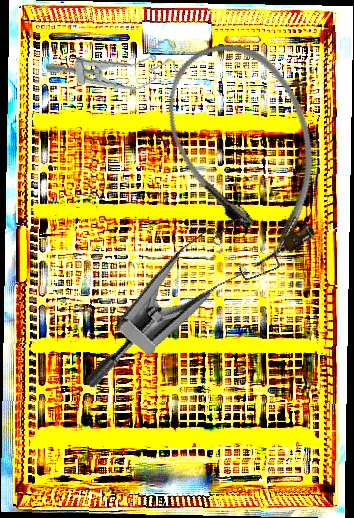Cannula: (145, 23, 350, 279)
Speculum: (82, 181, 297, 438), (44, 37, 181, 101)
